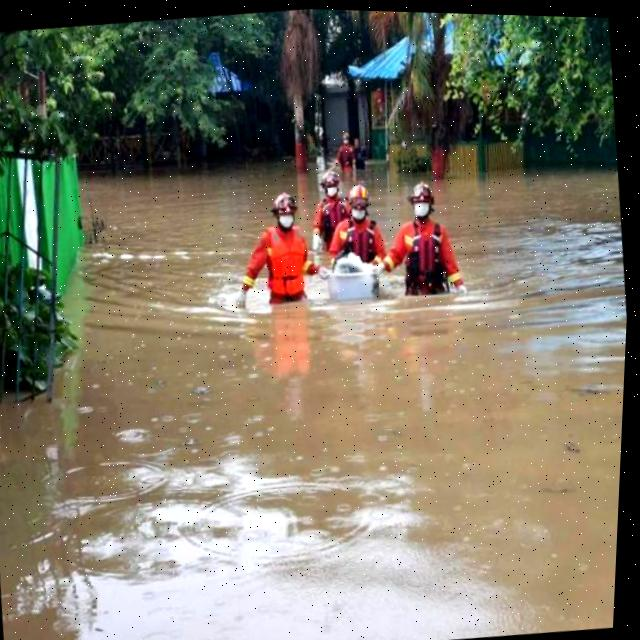rescuer: (361, 170, 481, 318), (215, 184, 335, 328), (321, 174, 395, 270), (300, 164, 354, 258), (321, 121, 370, 183)
